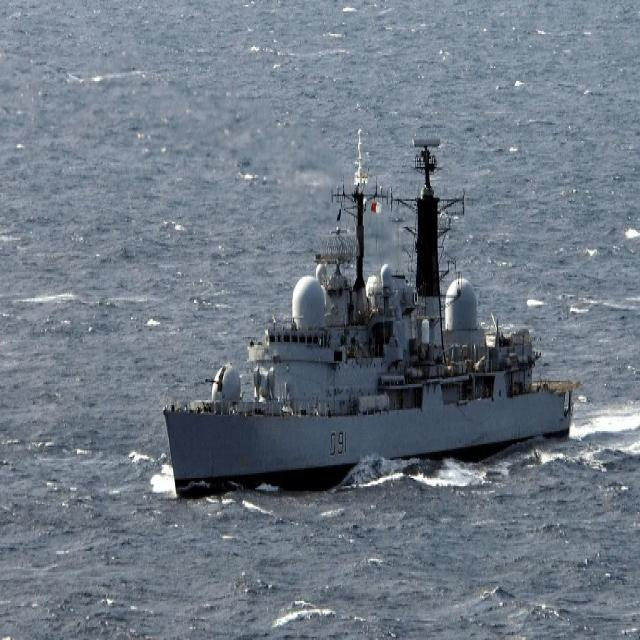navalvessels: (165, 124, 585, 505)
